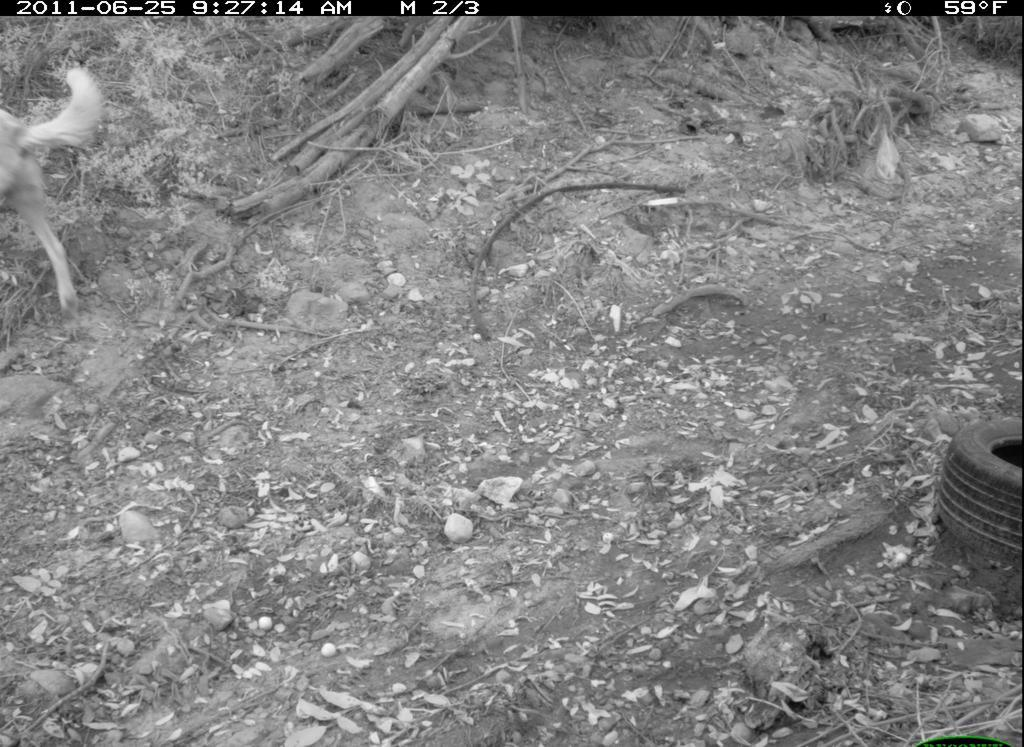dog: (2, 62, 102, 306)
